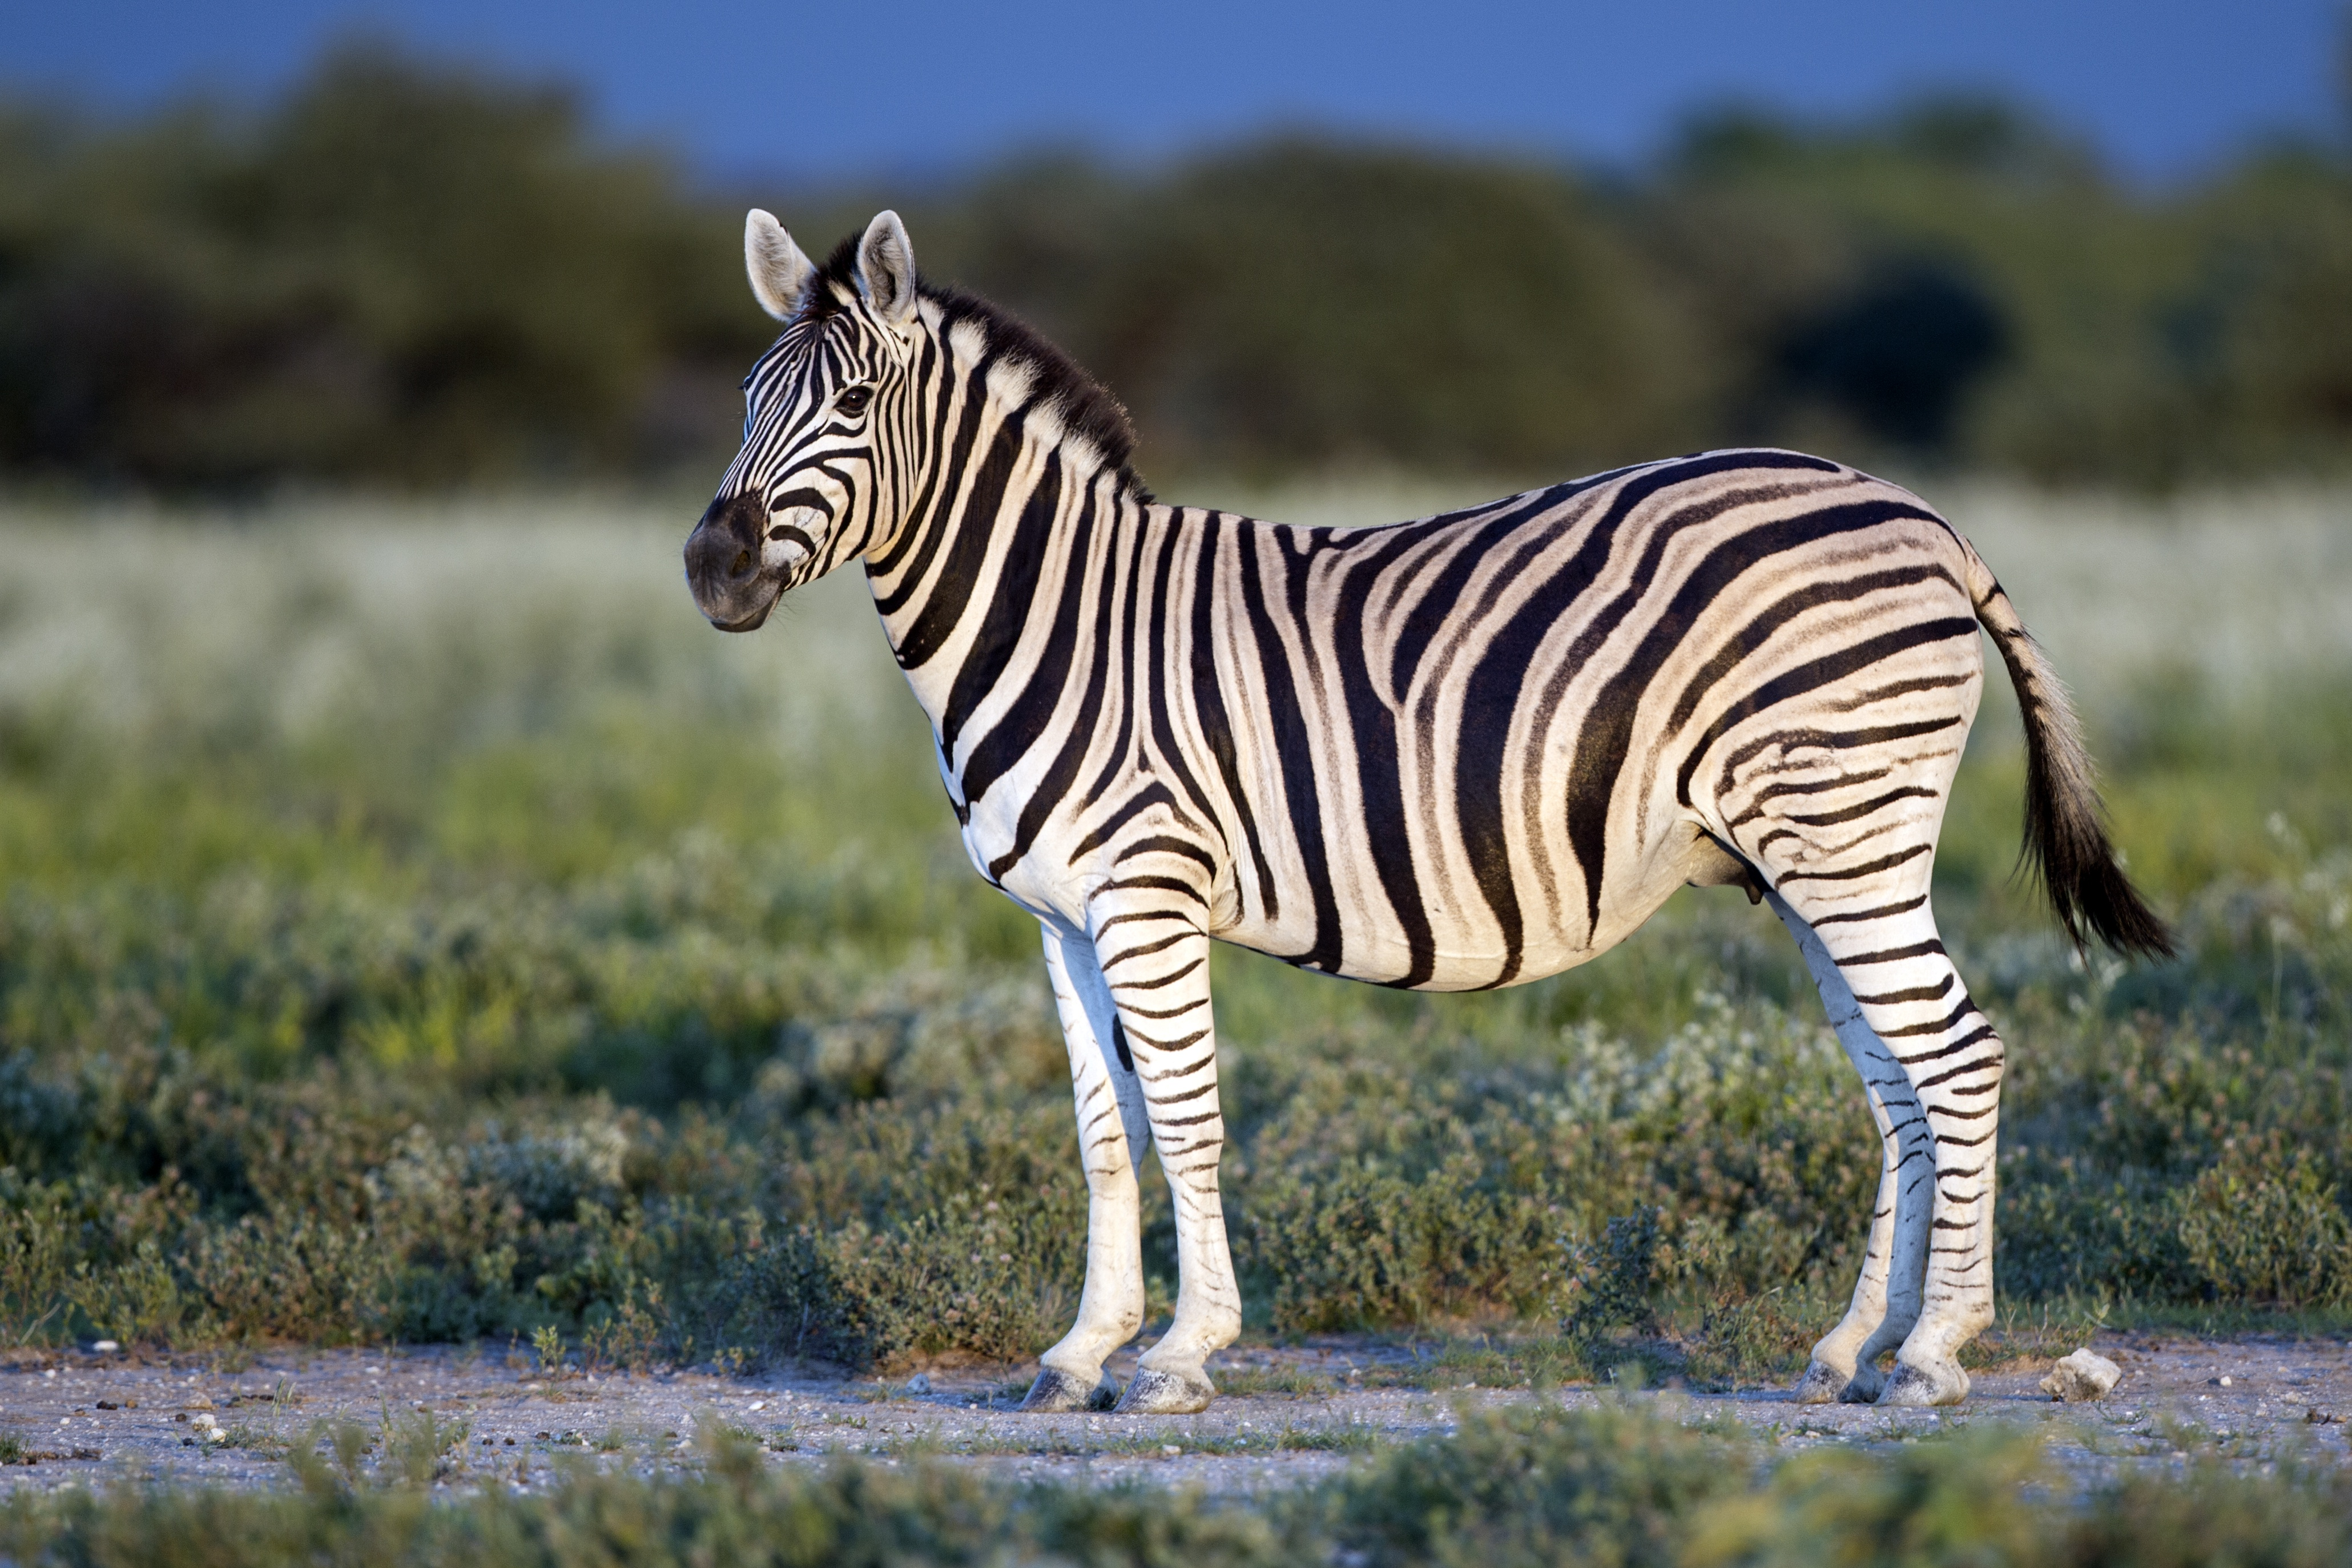zebra: (674, 193, 2165, 1426)
